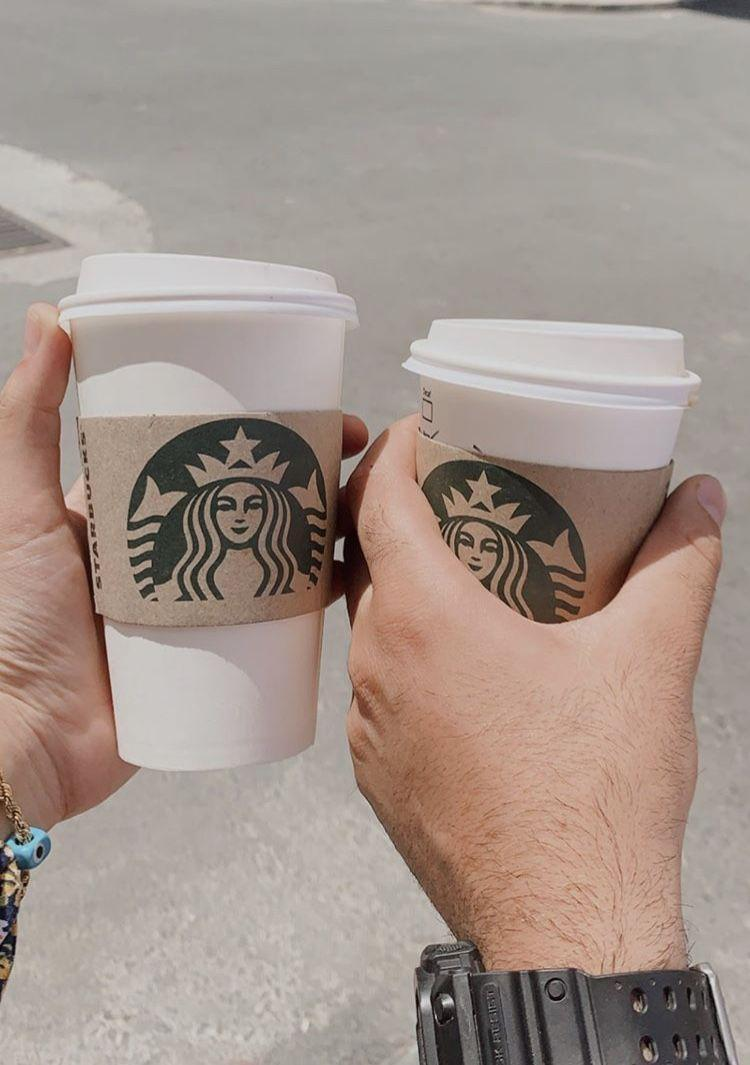cup-disposable: (54, 250, 361, 774), (402, 314, 702, 624)
